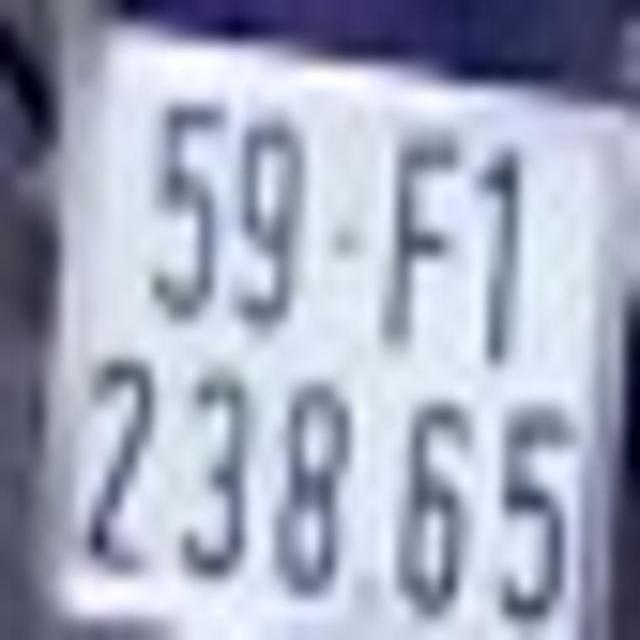1: (476, 152, 520, 359)
2: (78, 362, 152, 568)
3: (184, 371, 244, 576)
5: (494, 404, 572, 618), (153, 102, 218, 334)
6: (394, 402, 473, 616)
8: (280, 384, 342, 596)
9: (240, 123, 306, 327)
F: (389, 143, 467, 350)
